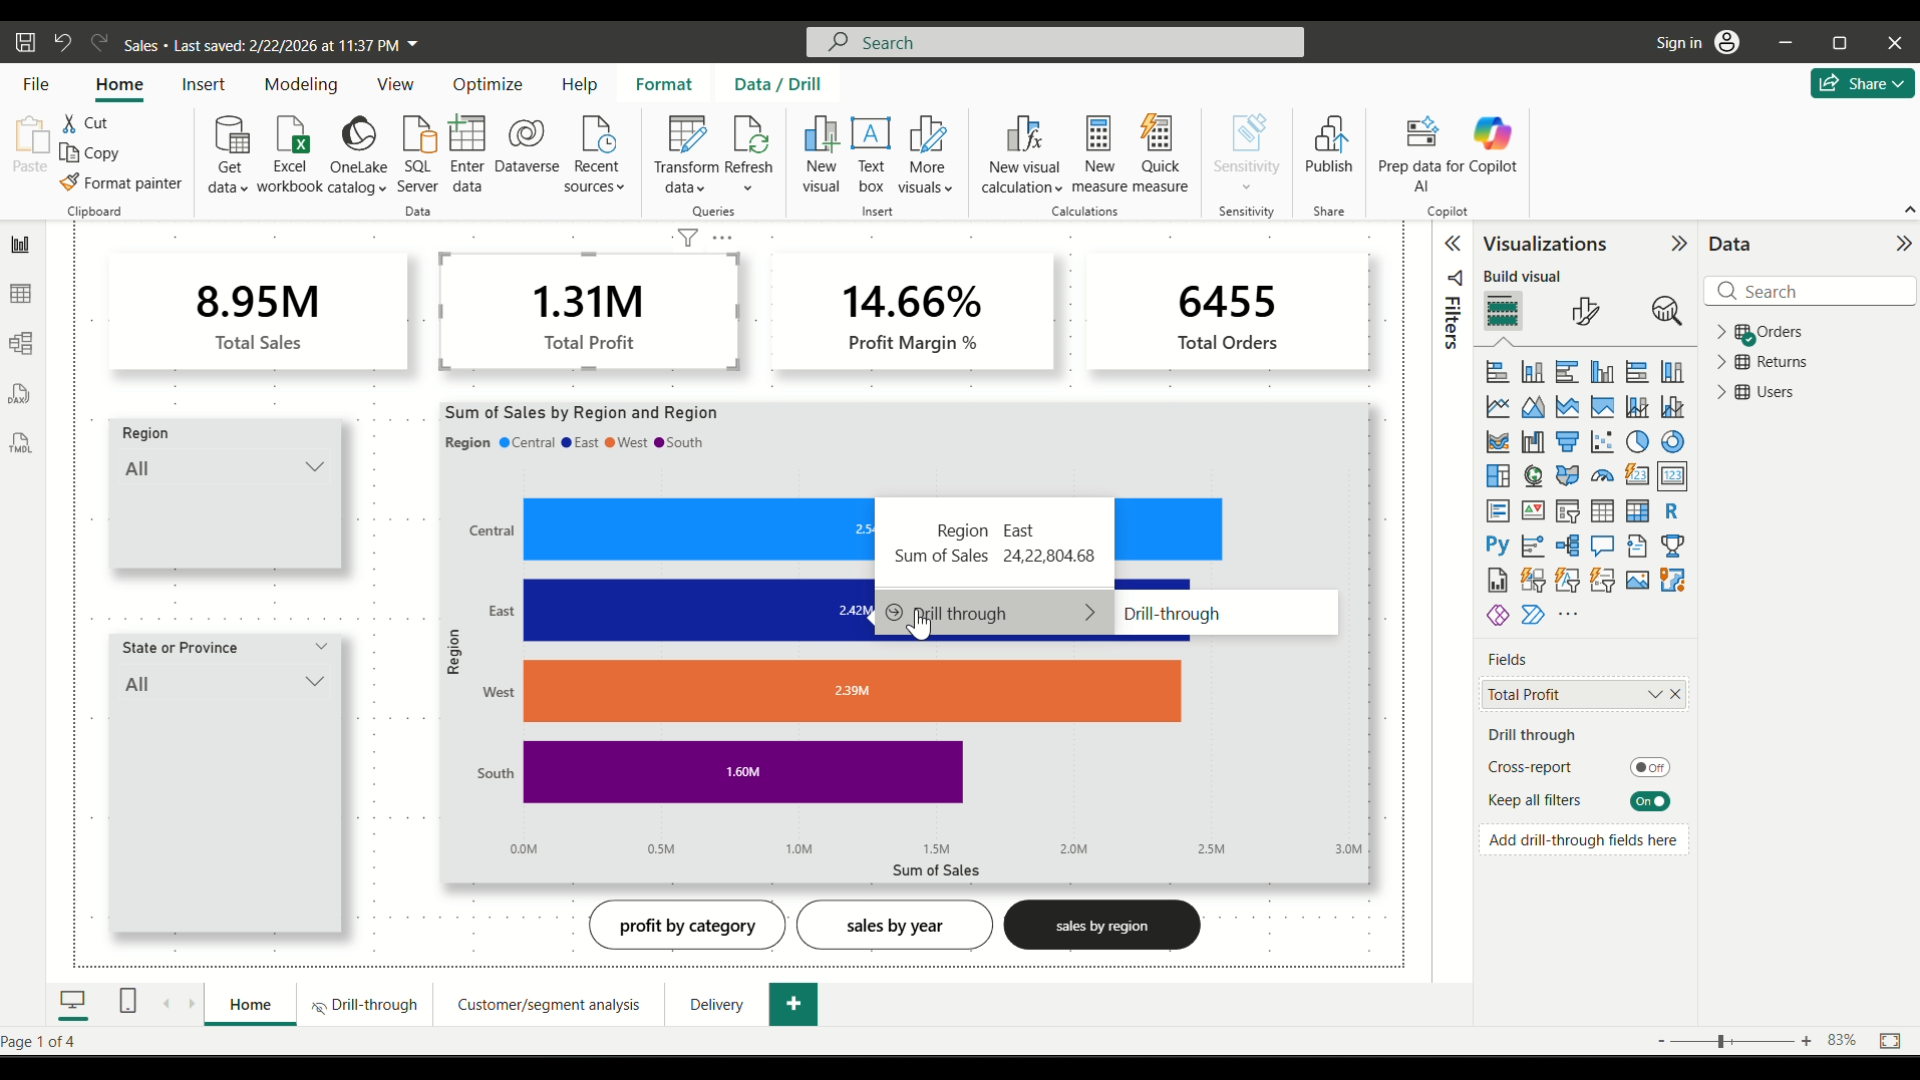

The dashboard page shown, as its layout file describes it:
{"tool":"powerbi","page":{"name":"Home","canvas":[1280,720],"ordinal":0},"visuals":[{"type":"card","fields":{"Values":["Orders.Total Profit"]},"box":[352,32,288,112],"z":0},{"type":"card","fields":{"Values":["Orders.Profit Margin %"]},"box":[672,32,272,112],"z":1000},{"type":"card","fields":{"Values":["Orders.Total Orders"]},"box":[976,32,272,112],"z":2000},{"type":"card","fields":{"Values":["Orders.Total Sales"]},"box":[32,32,288,112],"z":3000},{"type":"lineChart","fields":{"Y":["Sum(Orders.Sales)"],"Category":["Orders.Order Date.Variation.Date Hierarchy.Year"]},"box":[352,176,896,464],"z":5000},{"type":"slicer","fields":{"Values":["Orders.Region"]},"box":[32,192,224,144],"z":6000},{"type":"slicer","fields":{"Values":["Orders.State or Province"]},"box":[32,400,224,288],"z":8000},{"type":"bookmarkNavigator","box":[496,656,592,48],"z":9000}]}

Visuals, with their boxes on the page's 1280x720 design canvas (x1, y1, x2, y2). These are canvas units, not pixel positions in the 1920x1080 screenshot, which may show the page scaled, cropped or inside an application window:
card - Orders.Total Profit: (352, 32, 640, 144)
card - Orders.Profit Margin %: (672, 32, 944, 144)
card - Orders.Total Orders: (976, 32, 1248, 144)
card - Orders.Total Sales: (32, 32, 320, 144)
lineChart - Sum(Orders.Sales) x Orders.Order Date.Variation.Date Hierarchy.Year: (352, 176, 1248, 640)
slicer - Orders.Region: (32, 192, 256, 336)
slicer - Orders.State or Province: (32, 400, 256, 688)
bookmarkNavigator: (496, 656, 1088, 704)
